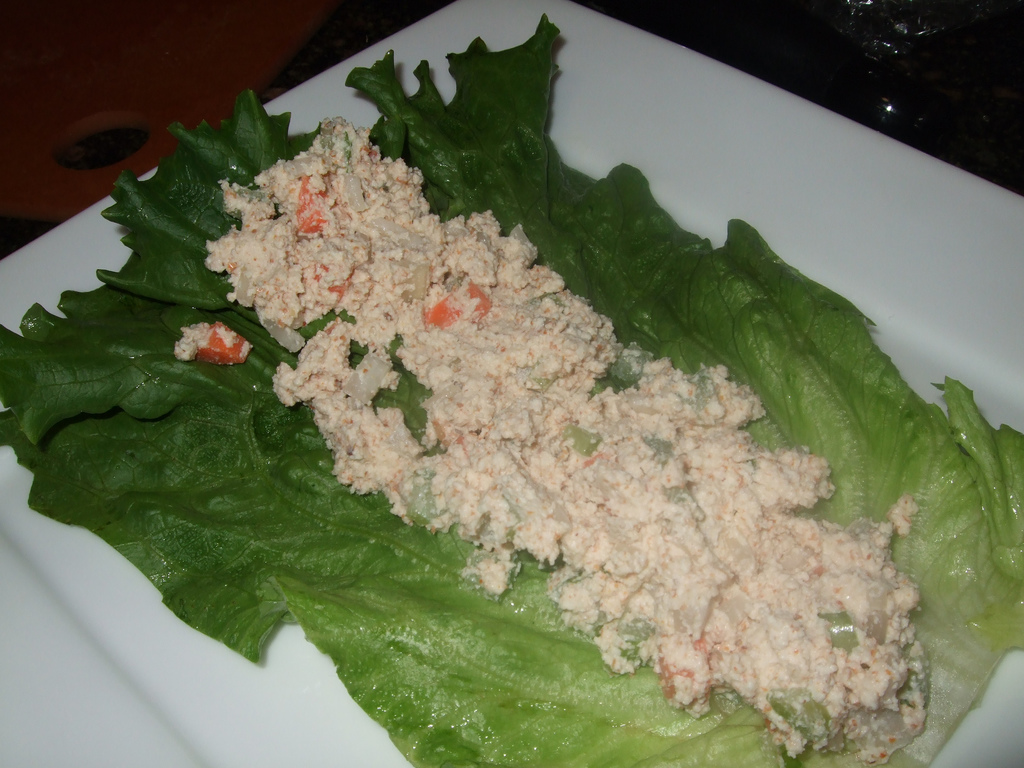chopped lettuce: (86, 322, 663, 671)
